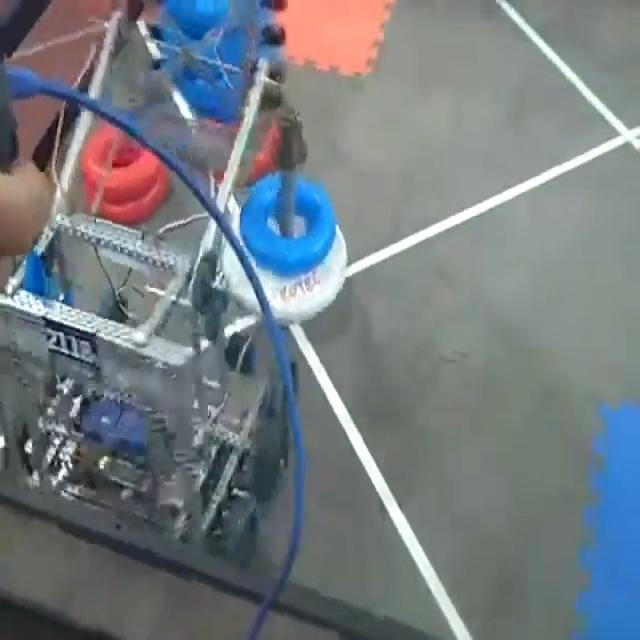Blue-Ring: (240, 173, 336, 277)
Red-Ring: (81, 127, 160, 202), (100, 167, 168, 224)
